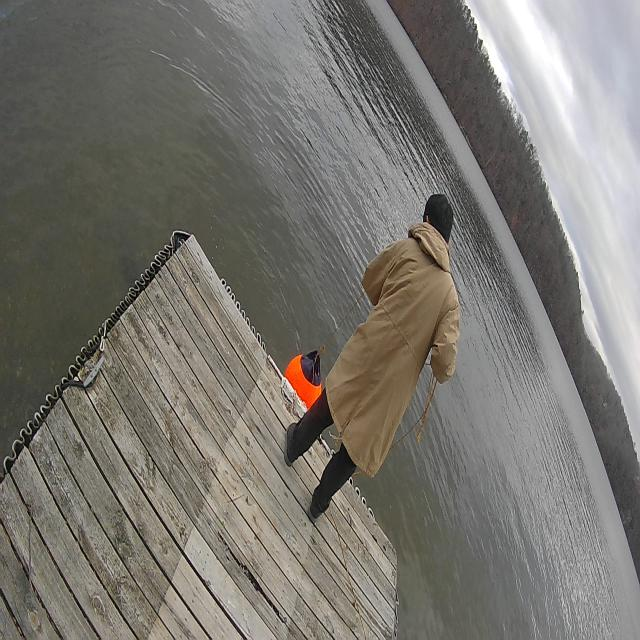Buoy: (282, 348, 324, 416)
